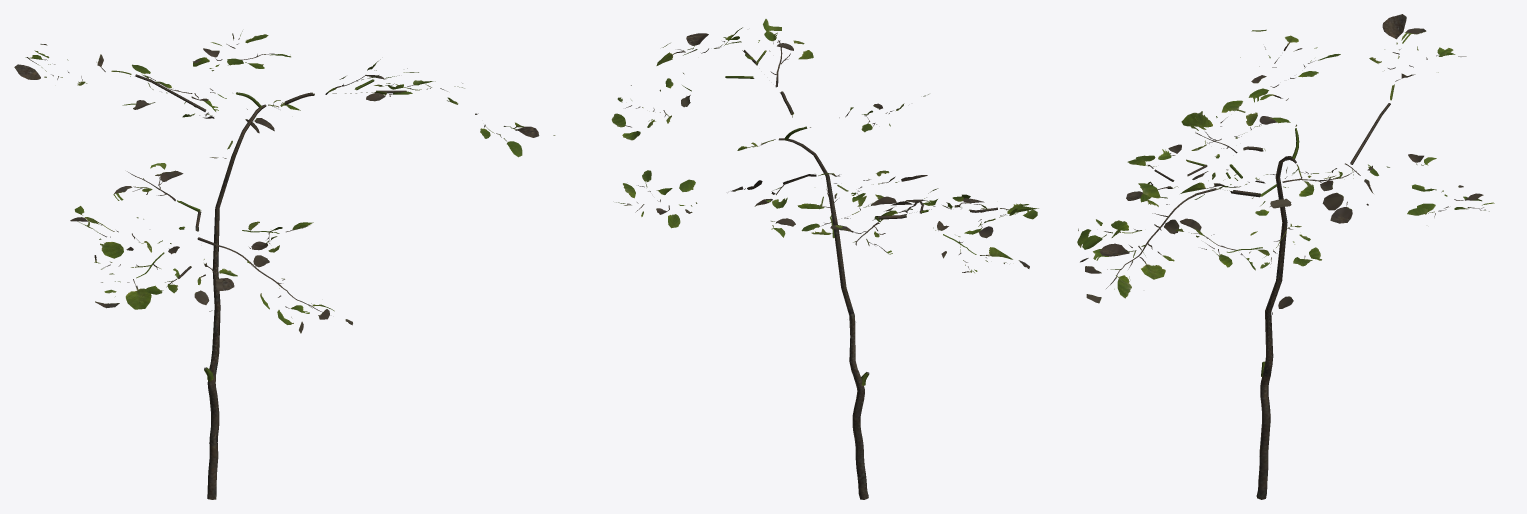
Rendered from SM_BlackAlder_Sapling_02_PP_LOD1.gltf.
3 renders of one model, left to right at view 1: azimuth 30°, elevation 25°; view 2: azimuth 150°, elevation 25°; view 3: azimuth 270°, elevation 25°, orthographic. The views are drawn at different scales.
Visible parts, largest first — view 1: SM_BlackAlder_Sapling_02_PP; view 2: SM_BlackAlder_Sapling_02_PP; view 3: SM_BlackAlder_Sapling_02_PP.
Part boxes in pixels (x1,y1,x2,y2): SM_BlackAlder_Sapling_02_PP: (14, 31, 555, 499); SM_BlackAlder_Sapling_02_PP: (611, 19, 1038, 499); SM_BlackAlder_Sapling_02_PP: (1077, 14, 1494, 499).
Size of the model in its own units: 1.67 by 1.59 by 1.41.
1 material, 1 textured.
